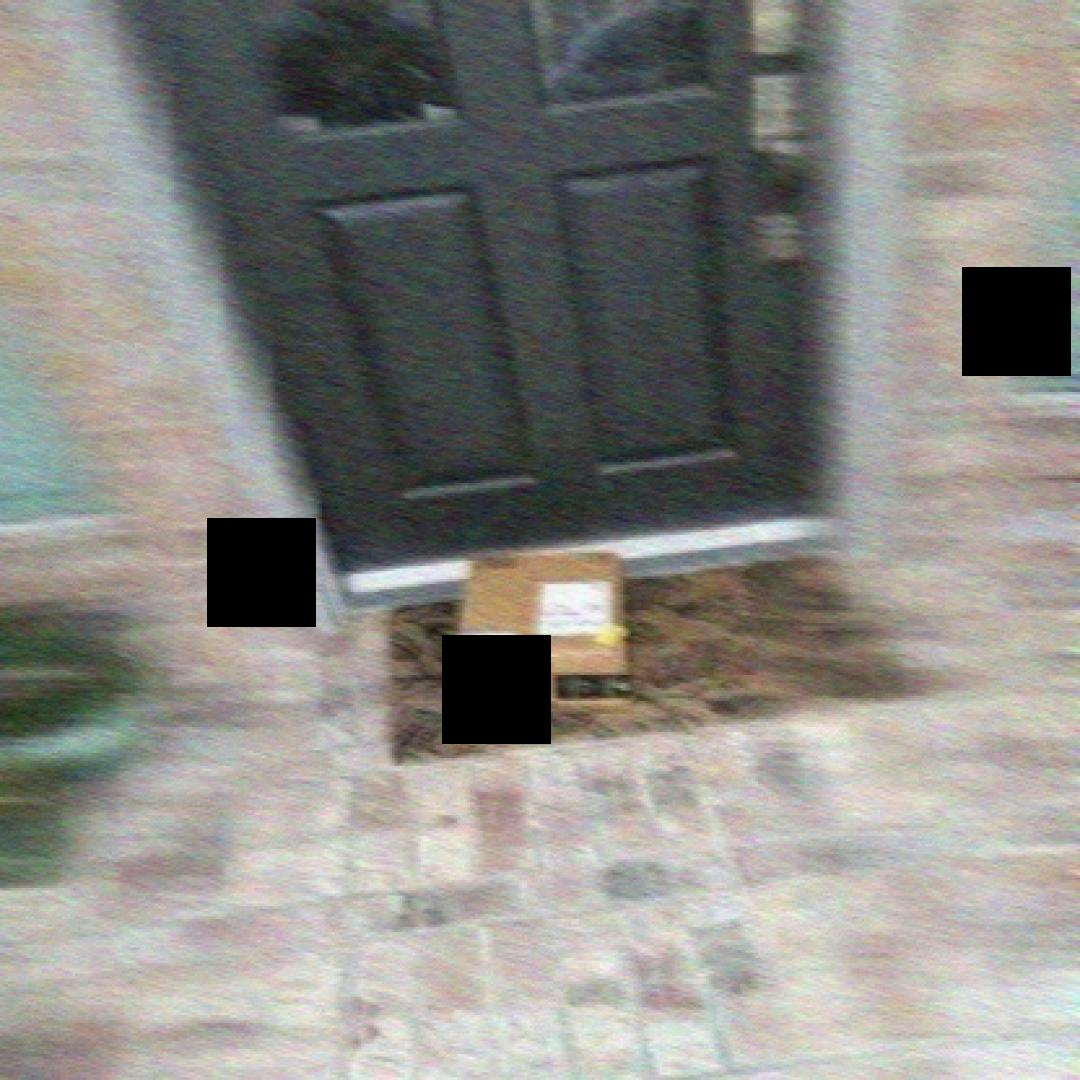package: (441, 546, 649, 740)
